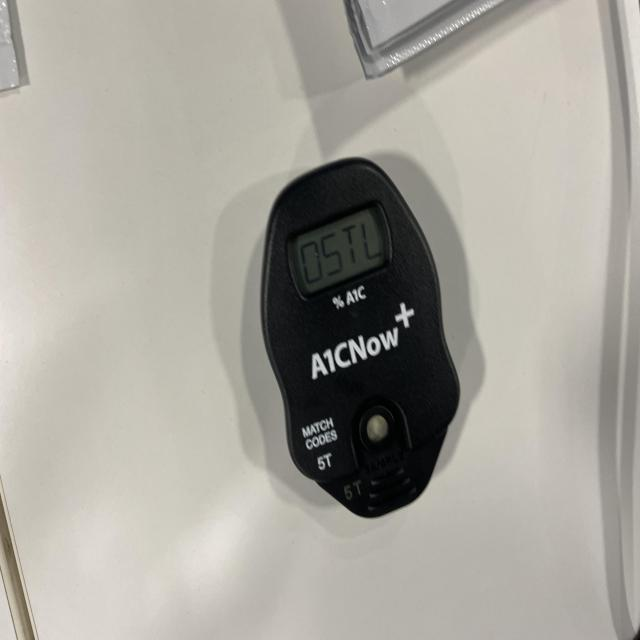hba1c: (256, 158, 463, 521)
